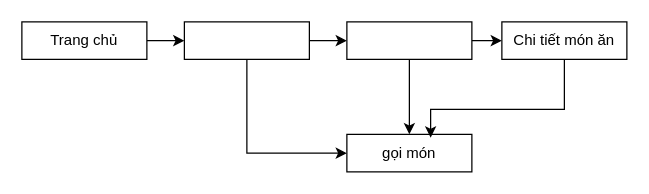
The diagram is 649 pixels wide and 194 high, and some of its shapes have lost their labels. Each missing label, with the box of its shape:
chi tiết từng danh mục: (346, 21, 472, 59)
danh mục thực đơn: (183, 21, 309, 59)
